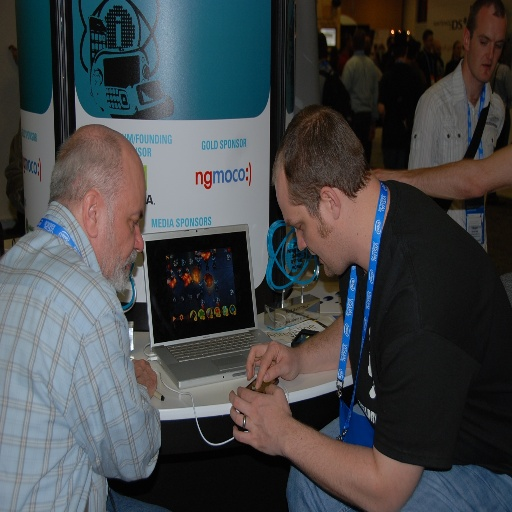hand: (229, 380, 320, 472), (244, 338, 301, 391), (130, 356, 159, 402), (364, 168, 399, 180)
